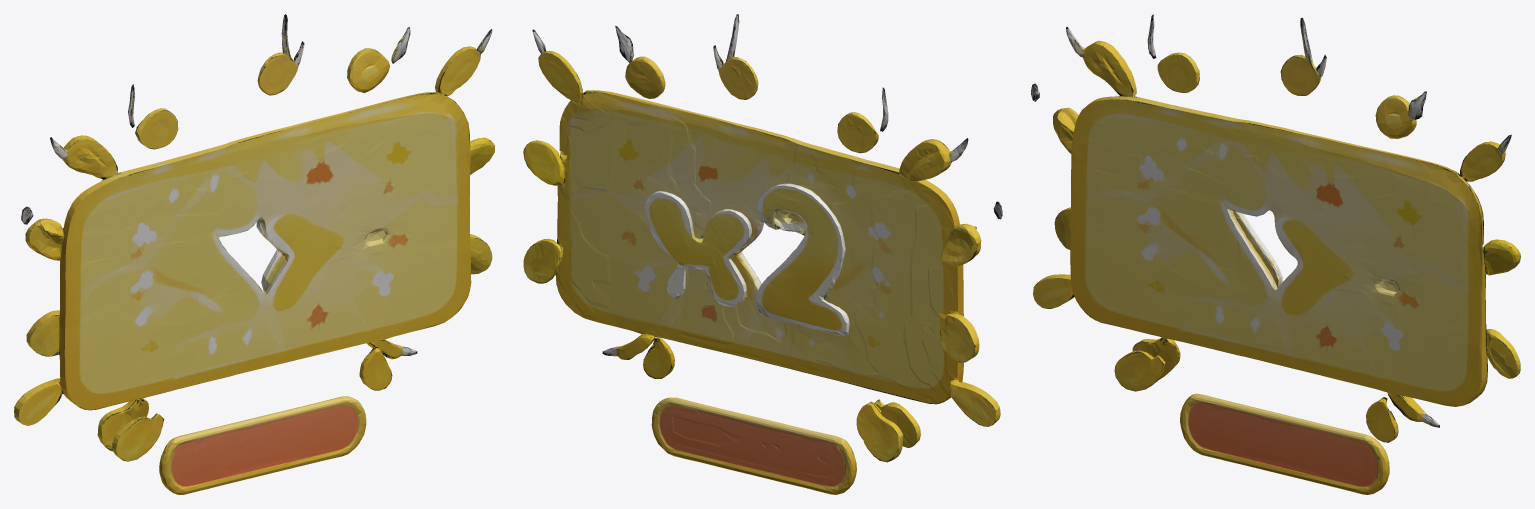
The model's file is COMMON_사물_popup_double_reward.glb.
The picture shows the model from 3 angles, left to right: view 1: azimuth 30°, elevation 25°; view 2: azimuth 150°, elevation 25°; view 3: azimuth 330°, elevation 25°; orthographic projection. The views are drawn at different scales.
Parts seen in each view (by area): view 1: world; view 2: world; view 3: world.
Part boxes in pixels (x1,y1,x2,y2): world: [14, 14, 494, 494]; world: [523, 14, 1002, 494]; world: [1031, 14, 1520, 494].
Bounding box in the file's own units: 0.9898 × 0.9063 × 0.0762.
1 material, 1 textured.
